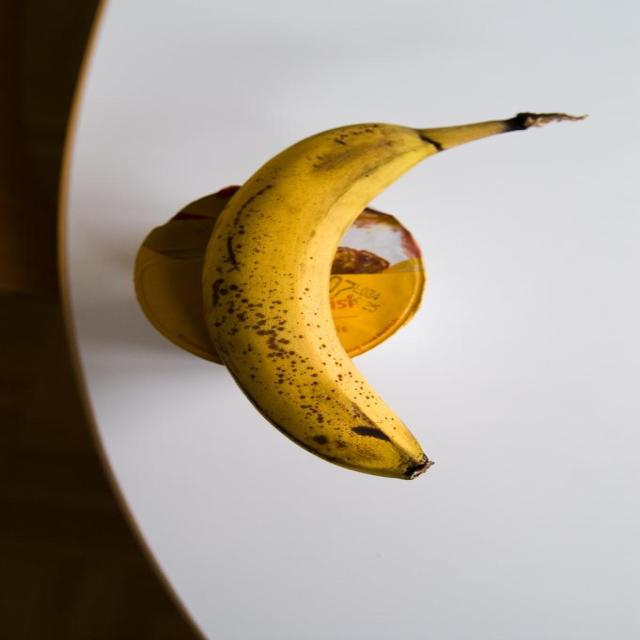banana: (199, 113, 576, 482)
